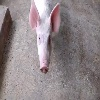heo: (26, 1, 64, 76)
